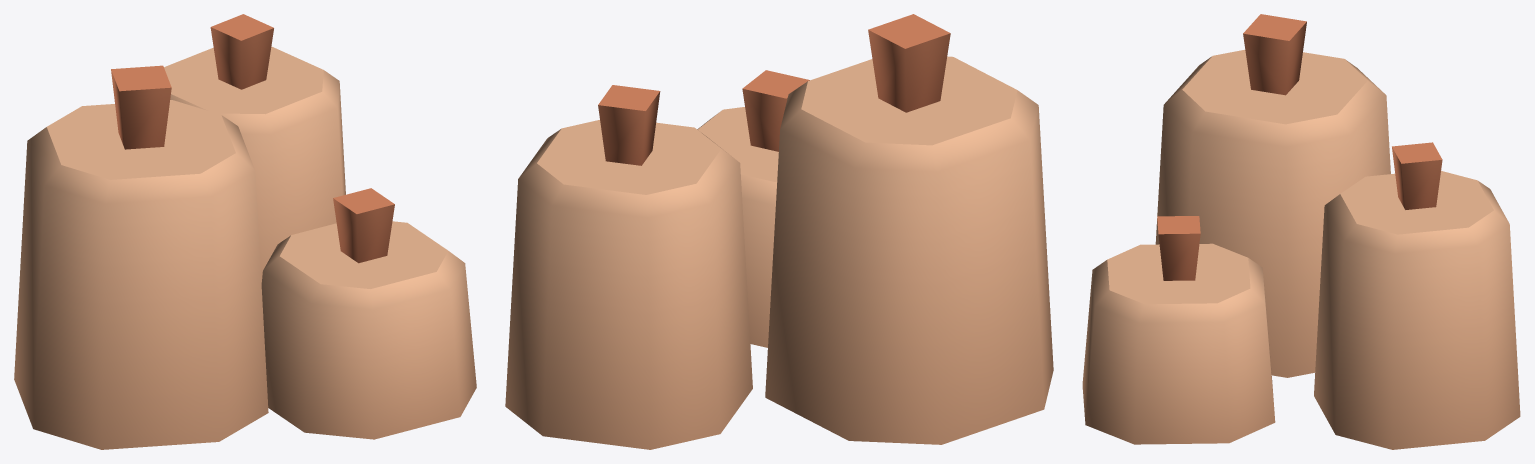
File: candle-multiple_lev2.glb
3 renders of one model, left to right at view 1: azimuth 30°, elevation 25°; view 2: azimuth 150°, elevation 25°; view 3: azimuth 270°, elevation 25°, orthographic. The views are drawn at different scales.
Visible parts, largest first — view 1: candle-multiple_lev2; view 2: candle-multiple_lev2; view 3: candle-multiple_lev2.
Boxes of the visible parts, x1,y1,x2,y2 form: candle-multiple_lev2: (14,14,476,449); candle-multiple_lev2: (505,14,1053,449); candle-multiple_lev2: (1082,14,1520,449).
Bounding box in the file's own units: 0.2552 × 0.2002 × 0.2667.
Materials: 1 (1 with a texture image).
